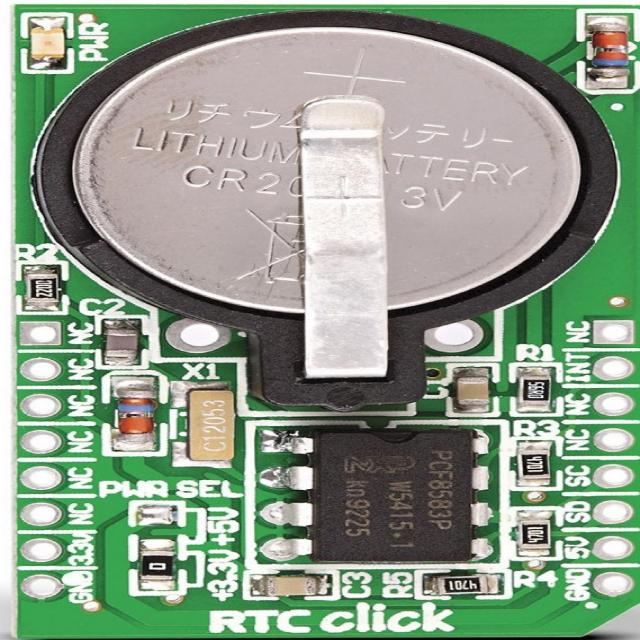IC: (288, 425, 494, 562)
LED: (18, 16, 68, 78)
battery: (84, 24, 589, 330)
capacitor 1V5: (254, 572, 332, 605), (456, 371, 498, 411), (107, 327, 156, 359)
clock Q1: (183, 389, 238, 464)
diode -D1-: (574, 15, 640, 81), (111, 382, 161, 446)
resistor IR1: (138, 539, 179, 595), (519, 441, 556, 486), (521, 520, 558, 559), (25, 275, 64, 310), (439, 576, 503, 596), (524, 374, 561, 407)
